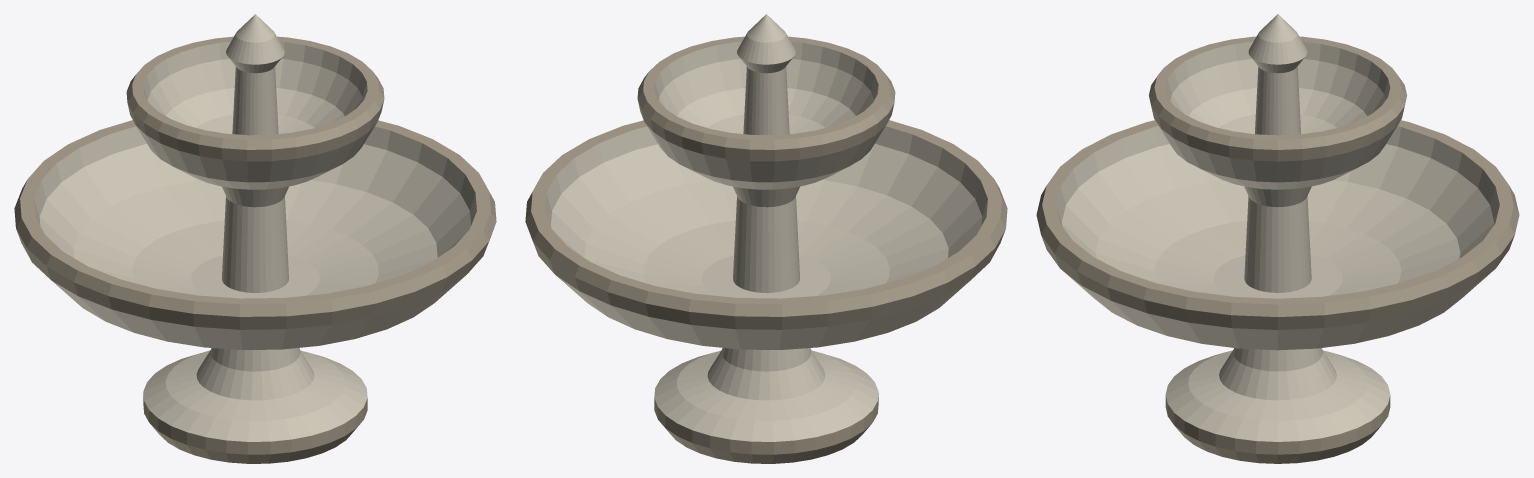
The picture shows the model from 3 angles, left to right: view 1: azimuth 30°, elevation 25°; view 2: azimuth 150°, elevation 25°; view 3: azimuth 270°, elevation 25°; orthographic projection.
Visible parts, largest first — view 1: ContinuousTwoTierDryFountain; view 2: ContinuousTwoTierDryFountain; view 3: ContinuousTwoTierDryFountain.
Part boxes in pixels (x1,y1,x2,y2): ContinuousTwoTierDryFountain: [14, 14, 496, 463]; ContinuousTwoTierDryFountain: [525, 14, 1007, 463]; ContinuousTwoTierDryFountain: [1036, 14, 1519, 463].
Bounding box in the file's own units: 1.72 × 1.6 × 1.72.
